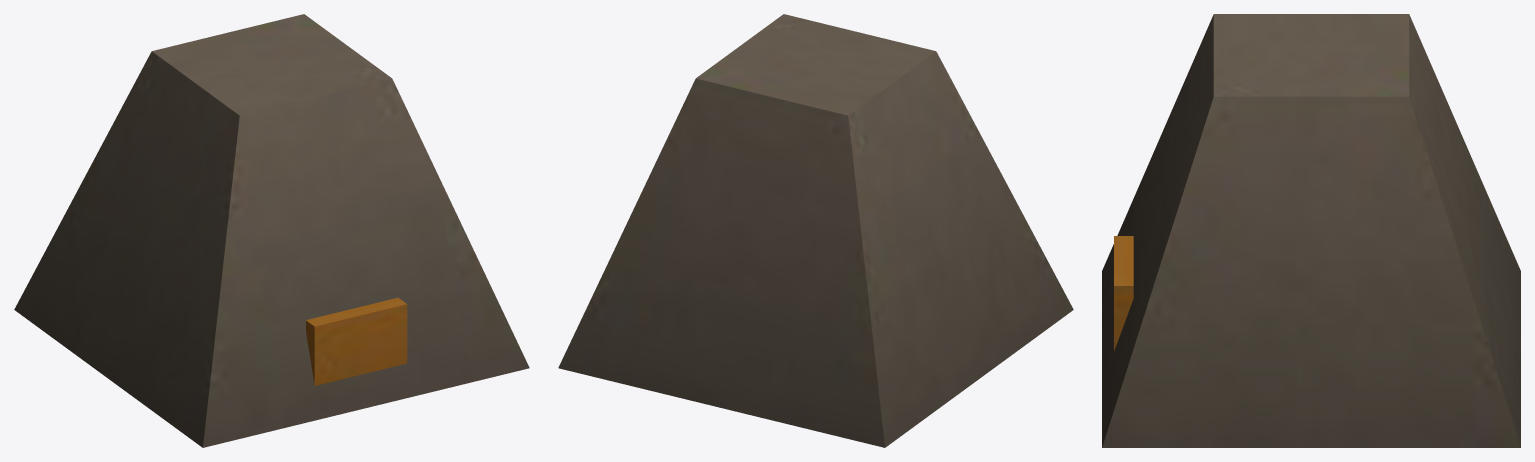
File: stone-furnace.glb
3 views of the same model, side by side, from view 1: azimuth 30°, elevation 25°; view 2: azimuth 150°, elevation 25°; view 3: azimuth 270°, elevation 25° (orthographic). The views are drawn at different scales.
Visible parts, largest first — view 1: stone-furnace; view 2: stone-furnace; view 3: stone-furnace.
Part boxes in pixels (x1,y1,x2,y2): stone-furnace: (14,14,529,447); stone-furnace: (558,14,1073,447); stone-furnace: (1102,14,1520,447).
Size of the model in its own units: 0.2121 by 0.17 by 0.2121.
1 material, 1 textured.
